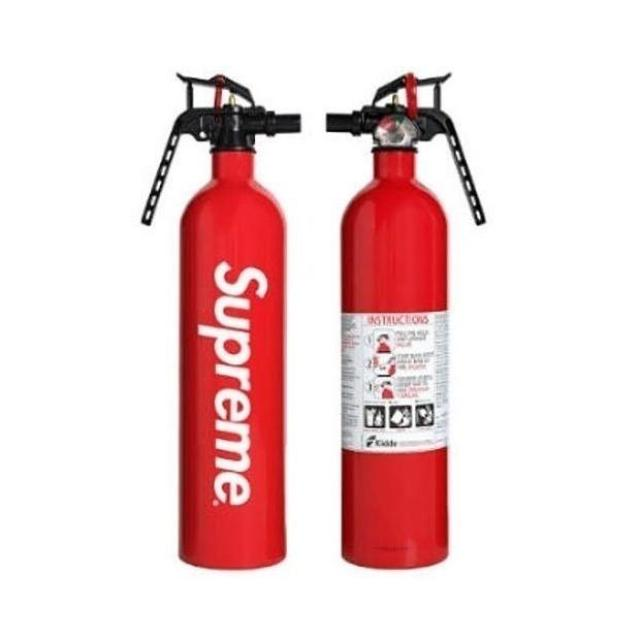fire_extinguisher: (131, 68, 304, 574), (322, 68, 488, 574)
